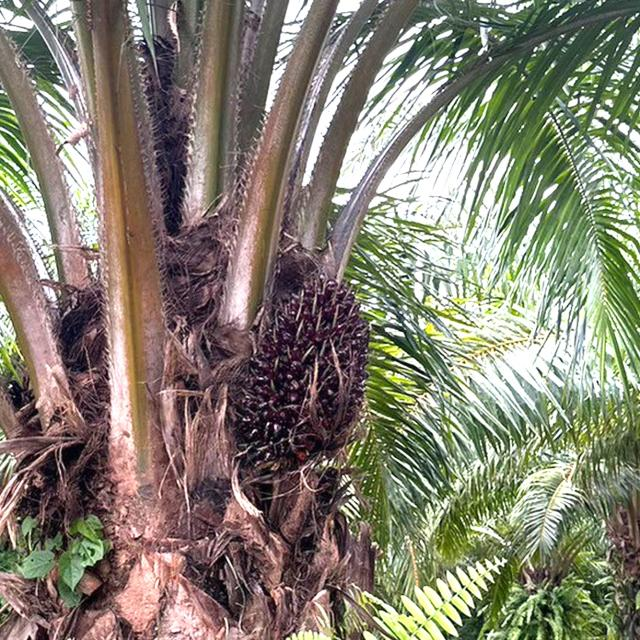ripe: (229, 260, 385, 478)
